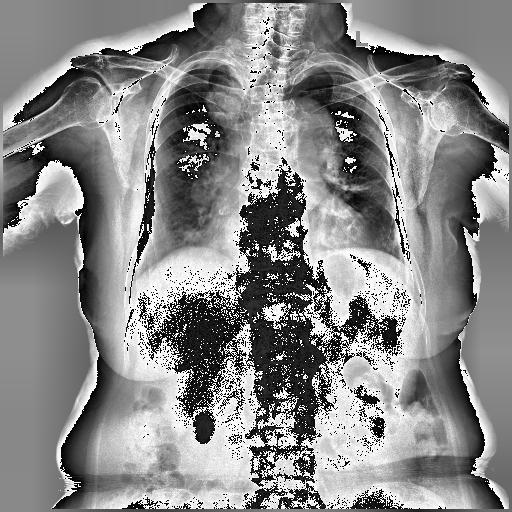0- Aortic enlargement: (278, 99, 342, 175), (270, 96, 342, 162), (282, 96, 338, 159)
13- Pulmonary fibrosis: (332, 172, 383, 192), (333, 176, 381, 192), (329, 182, 385, 191)
3- Cardiomegaly: (202, 210, 368, 262), (208, 196, 368, 248), (208, 216, 372, 260)
7- Lung Opacity: (194, 154, 232, 206), (204, 82, 244, 131)
8- Nodule-Mass: (202, 74, 250, 130), (203, 79, 247, 128), (185, 174, 217, 204), (189, 176, 216, 204)
9- Other lesion: (239, 48, 278, 135), (236, 61, 278, 139), (202, 74, 250, 130), (242, 73, 276, 138), (185, 174, 217, 204)
